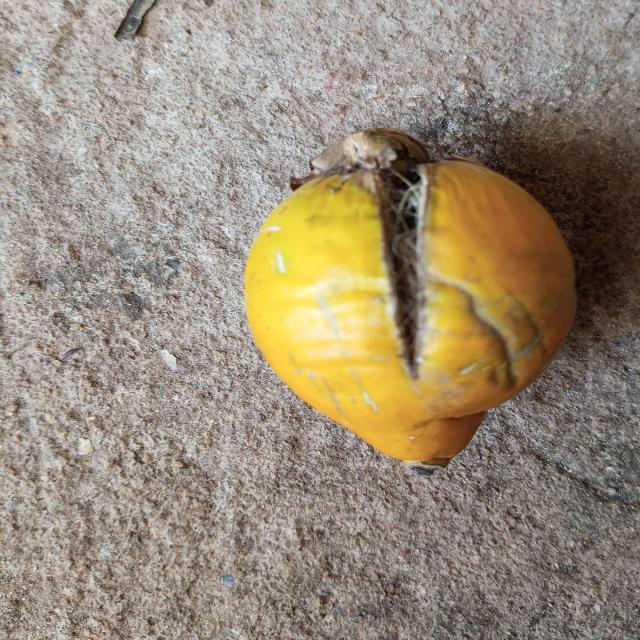damaged: (243, 128, 577, 469)
